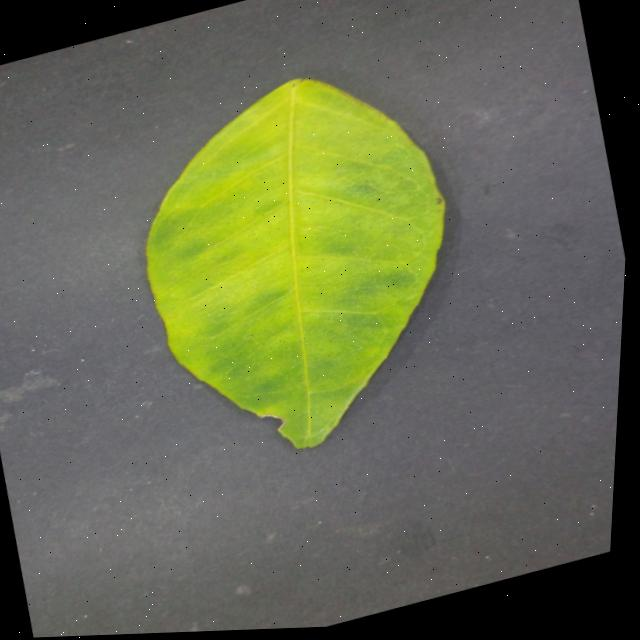greening: (146, 79, 444, 448)
